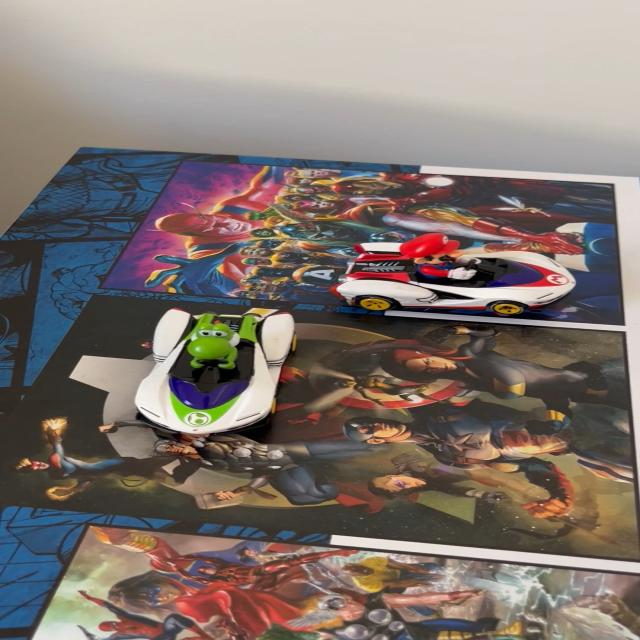mario: (318, 228, 588, 319)
yoshi: (124, 299, 304, 444)
